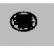correct: (10, 9, 38, 33)
